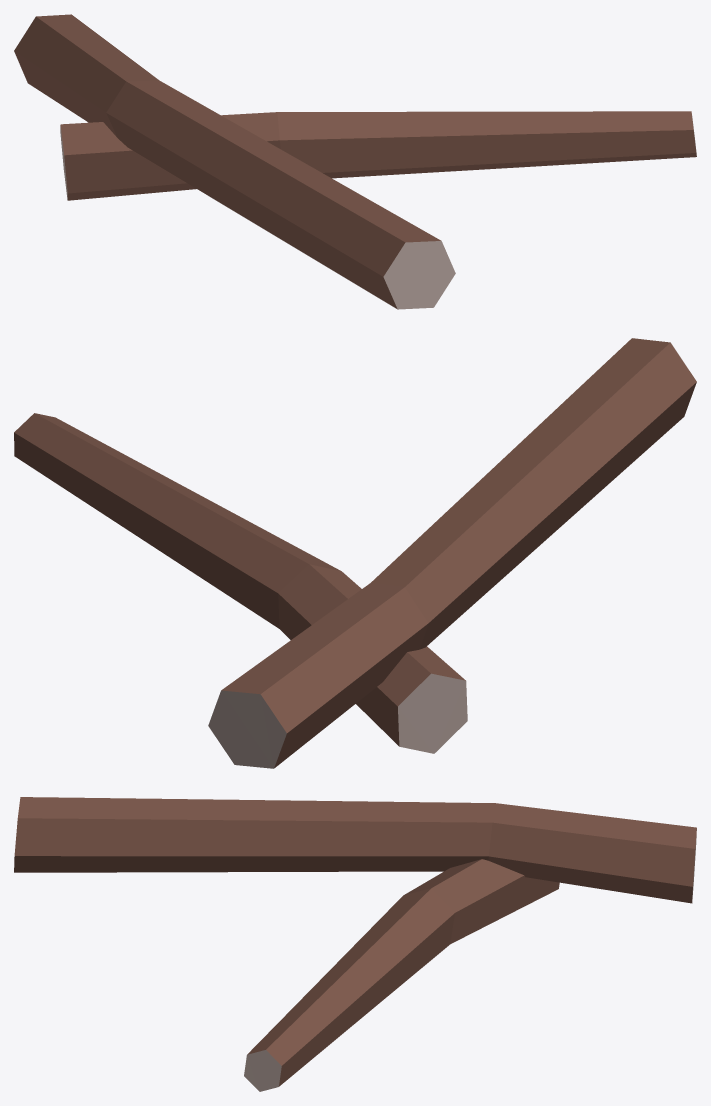
Rendered from props_001.glb.
3 renders of one model, top to bottom at view 1: azimuth 30°, elevation 25°; view 2: azimuth 150°, elevation 25°; view 3: azimuth 270°, elevation 25°, orthographic. The views are drawn at different scales.
Parts seen in each view (by area): view 1: props_001; view 2: props_001; view 3: props_001.
Boxes of the visible parts, bbox=[...] form: props_001: bbox=[14, 14, 696, 309]; props_001: bbox=[14, 338, 696, 768]; props_001: bbox=[14, 797, 696, 1091].
Size of the model in its own units: 1.58 by 0.4137 by 1.95.
Materials: 1 (1 with a texture image).
